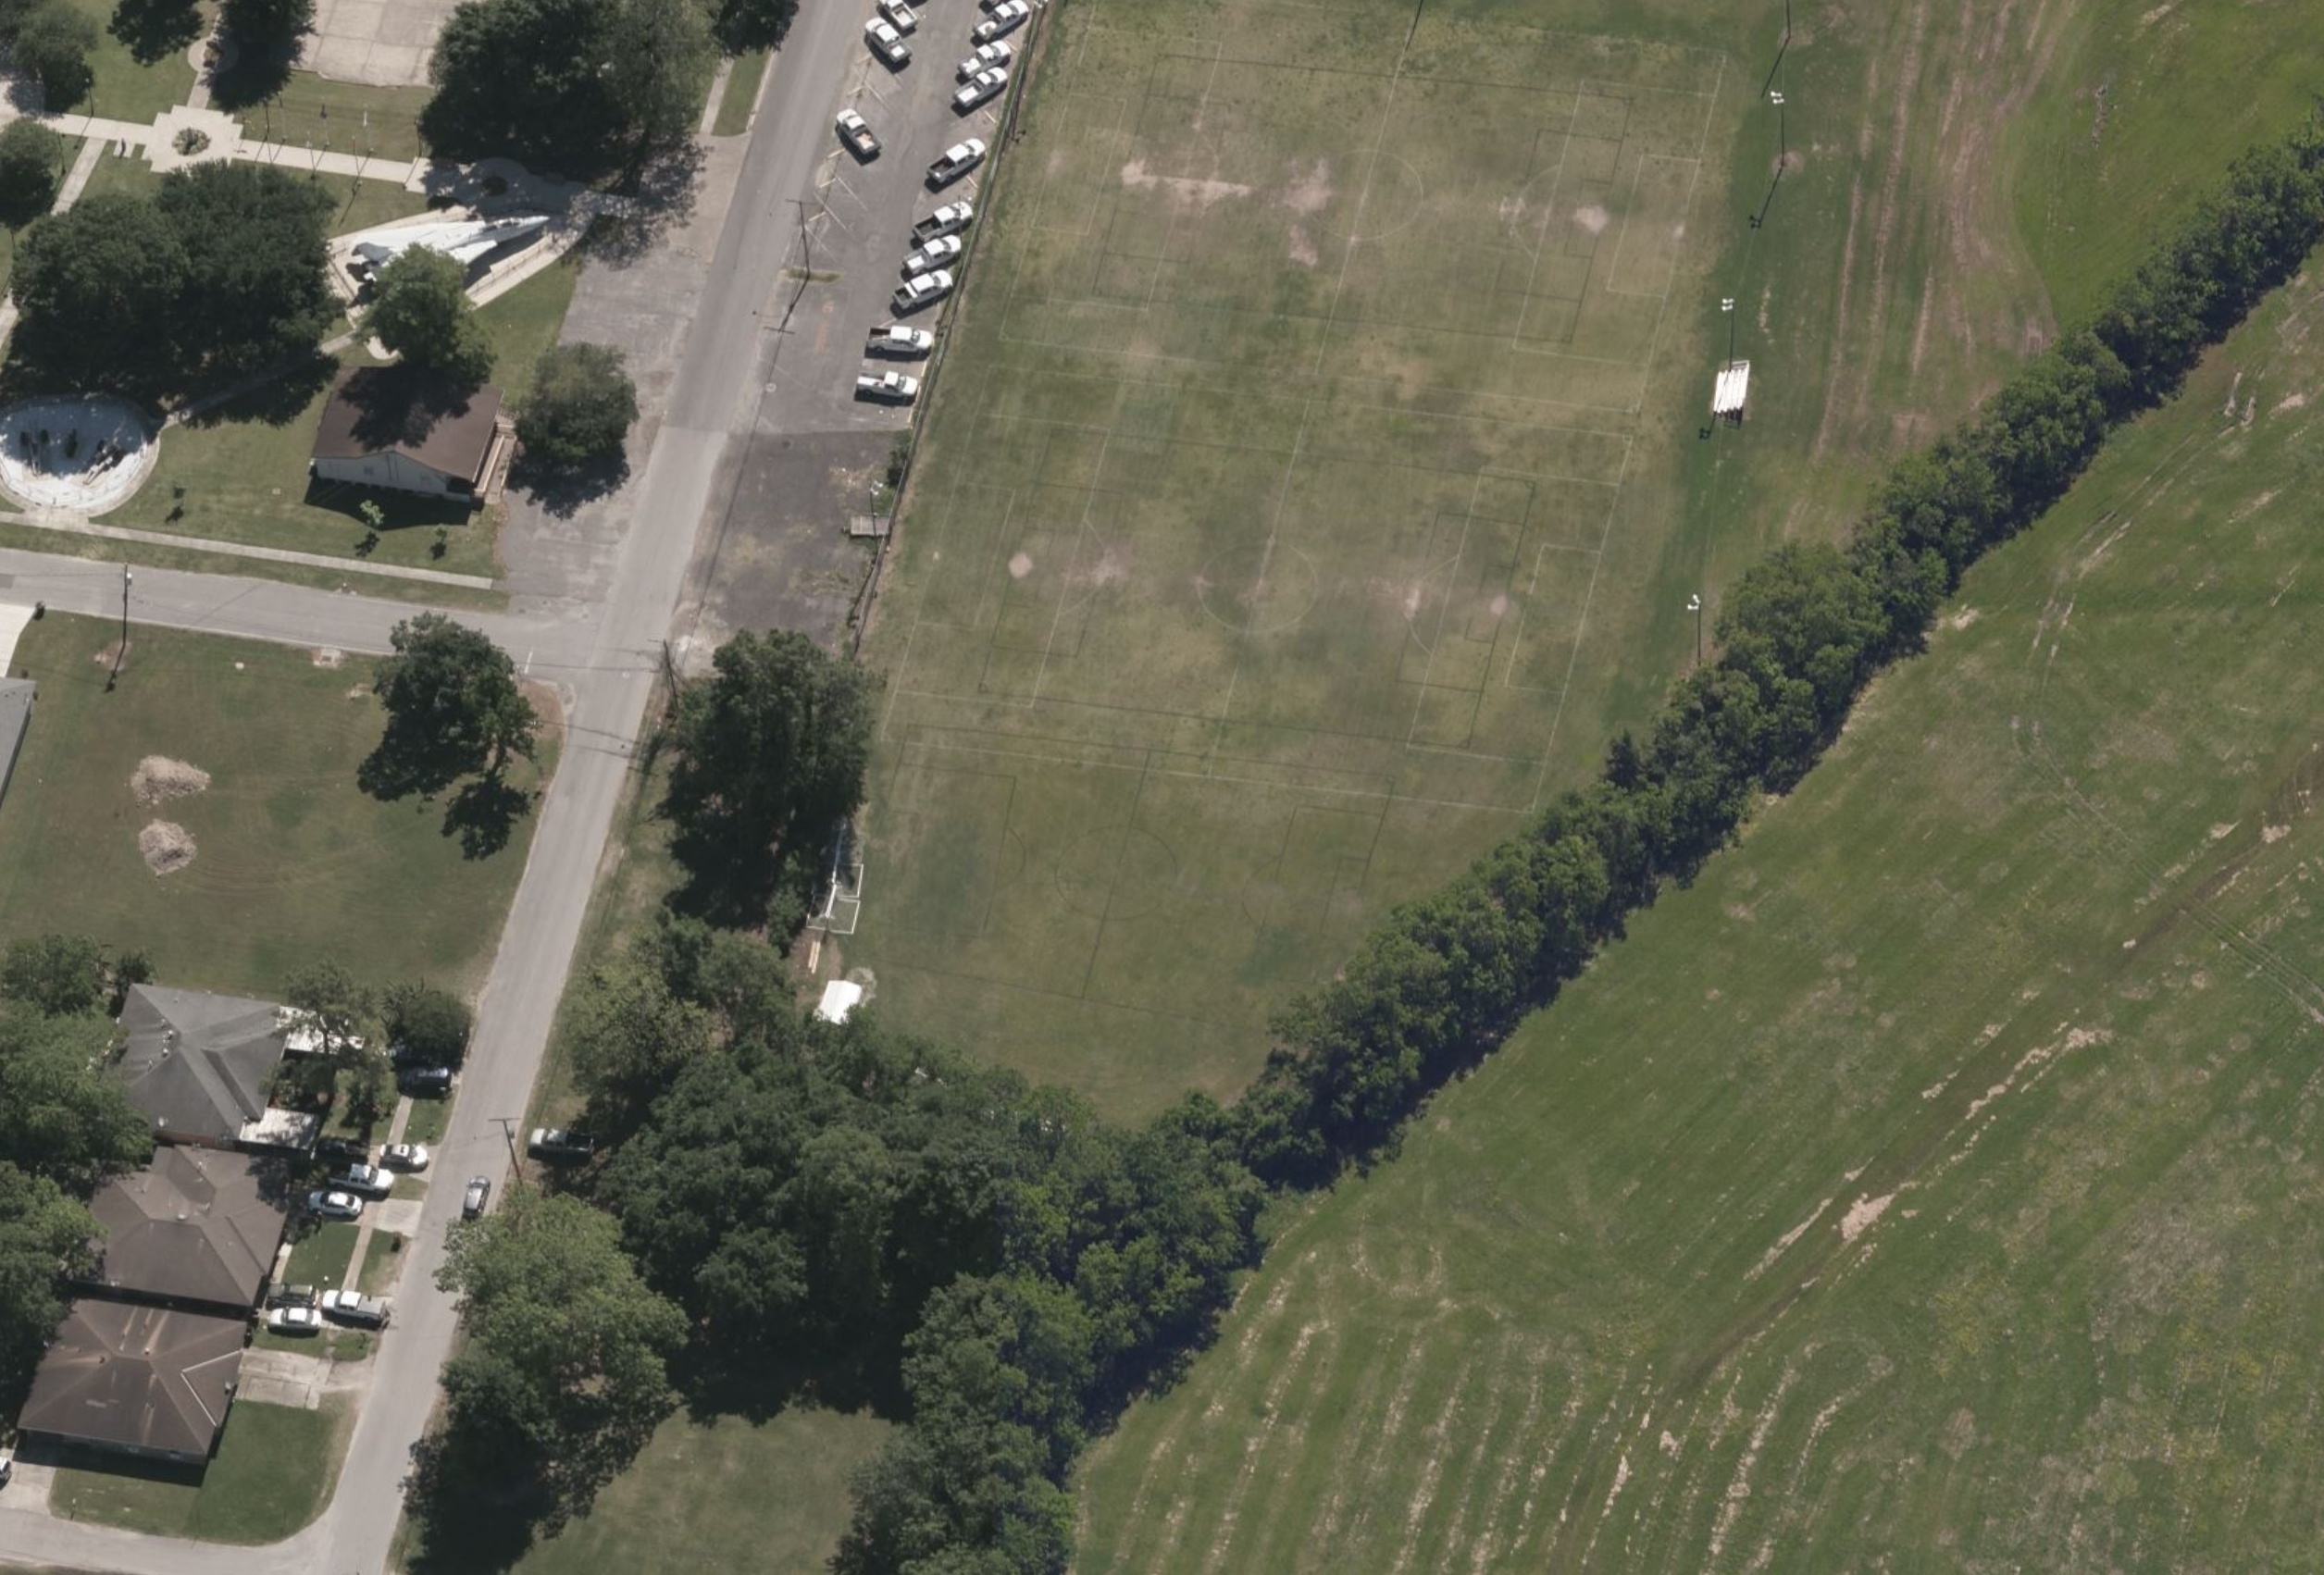F14: (352, 214, 550, 285)
